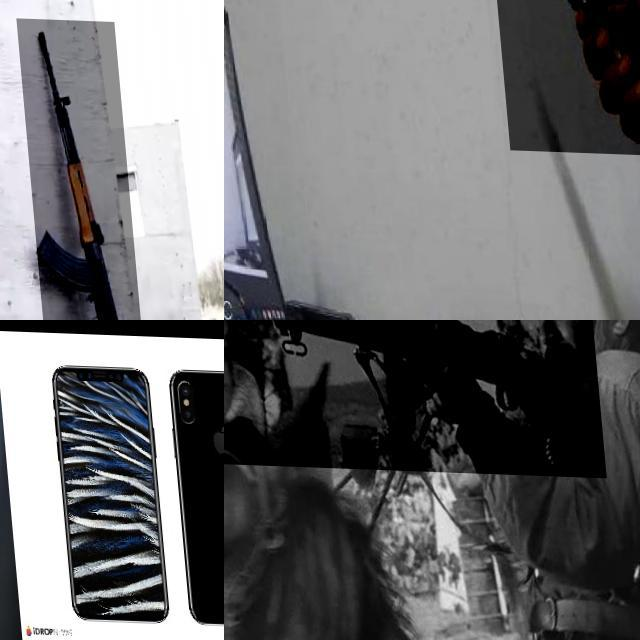-: (478, 0, 640, 171)
gun-knife-thesis - v11 Yolov5 augmented: (224, 320, 599, 475), (14, 16, 147, 320)
